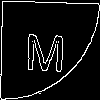M: (24, 25, 66, 72)
